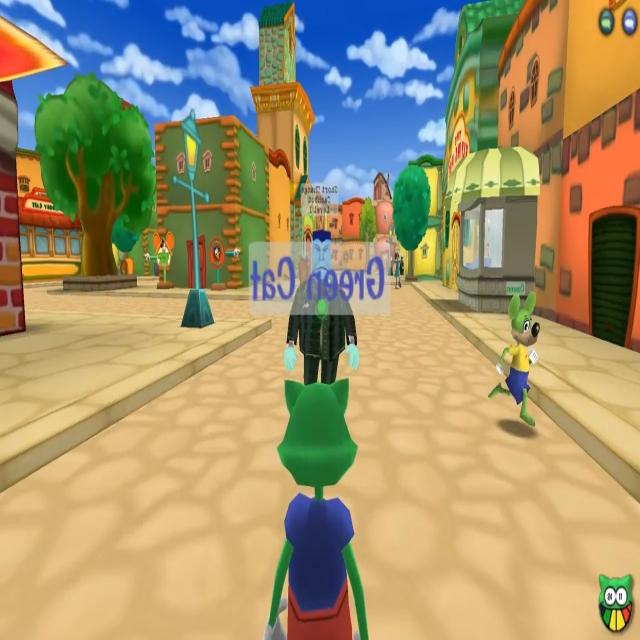shortchange: (286, 229, 359, 386)
